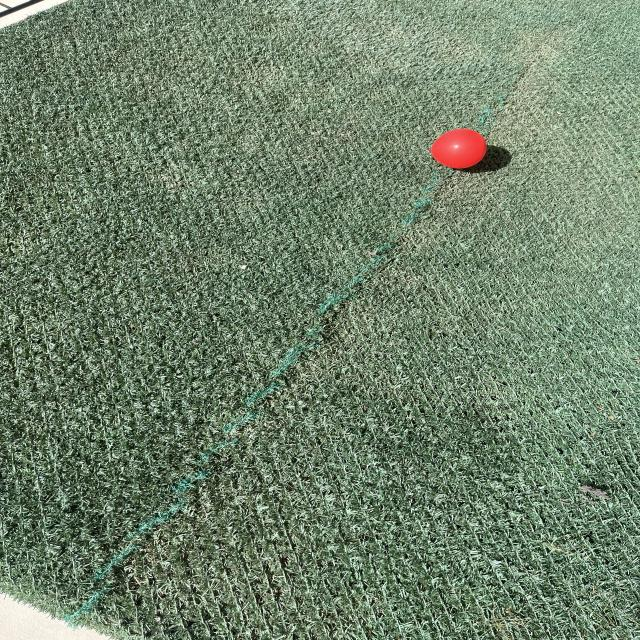balloon: (430, 129, 487, 169)
